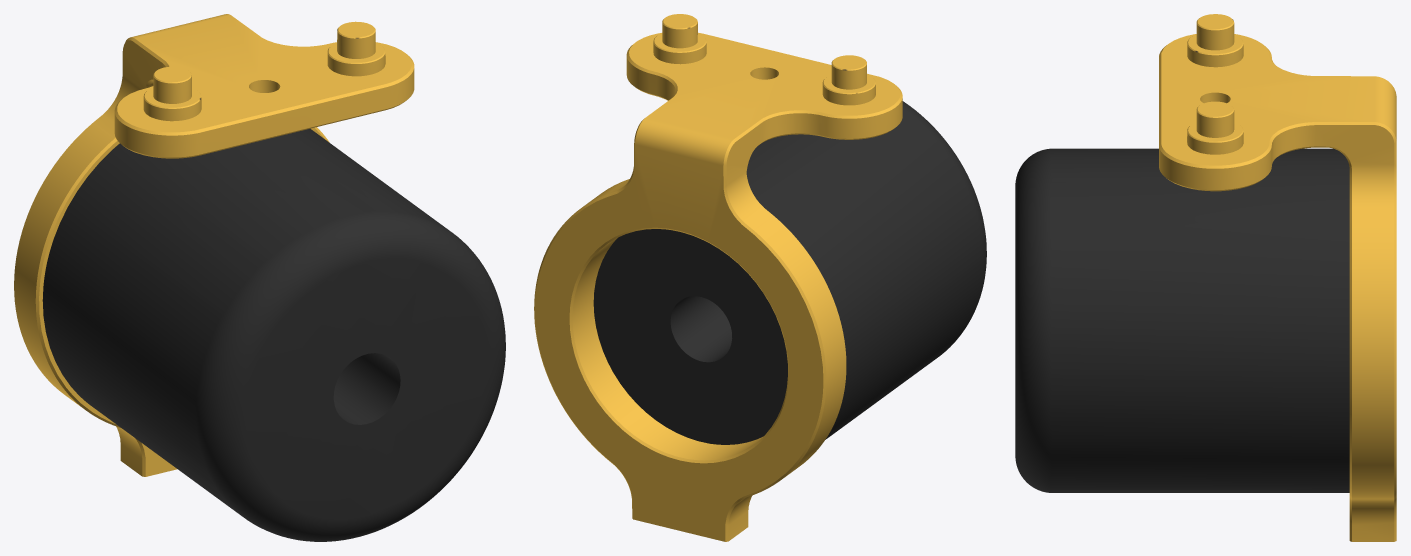
The model's file is armr6.dae.
3 views of the same model, side by side, from view 1: azimuth 30°, elevation 25°; view 2: azimuth 150°, elevation 25°; view 3: azimuth 270°, elevation 25° (orthographic). The views are drawn at different scales.
Visible parts, largest first — view 1: armr6; view 2: armr6; view 3: armr6.
Boxes of the visible parts, x1,y1,x2,y2 form: armr6: (14, 14, 505, 541); armr6: (534, 14, 986, 541); armr6: (1015, 14, 1396, 541).
Size of the model in its own units: 0.076 by 0.081 by 0.1059.
1 material, 1 textured.
